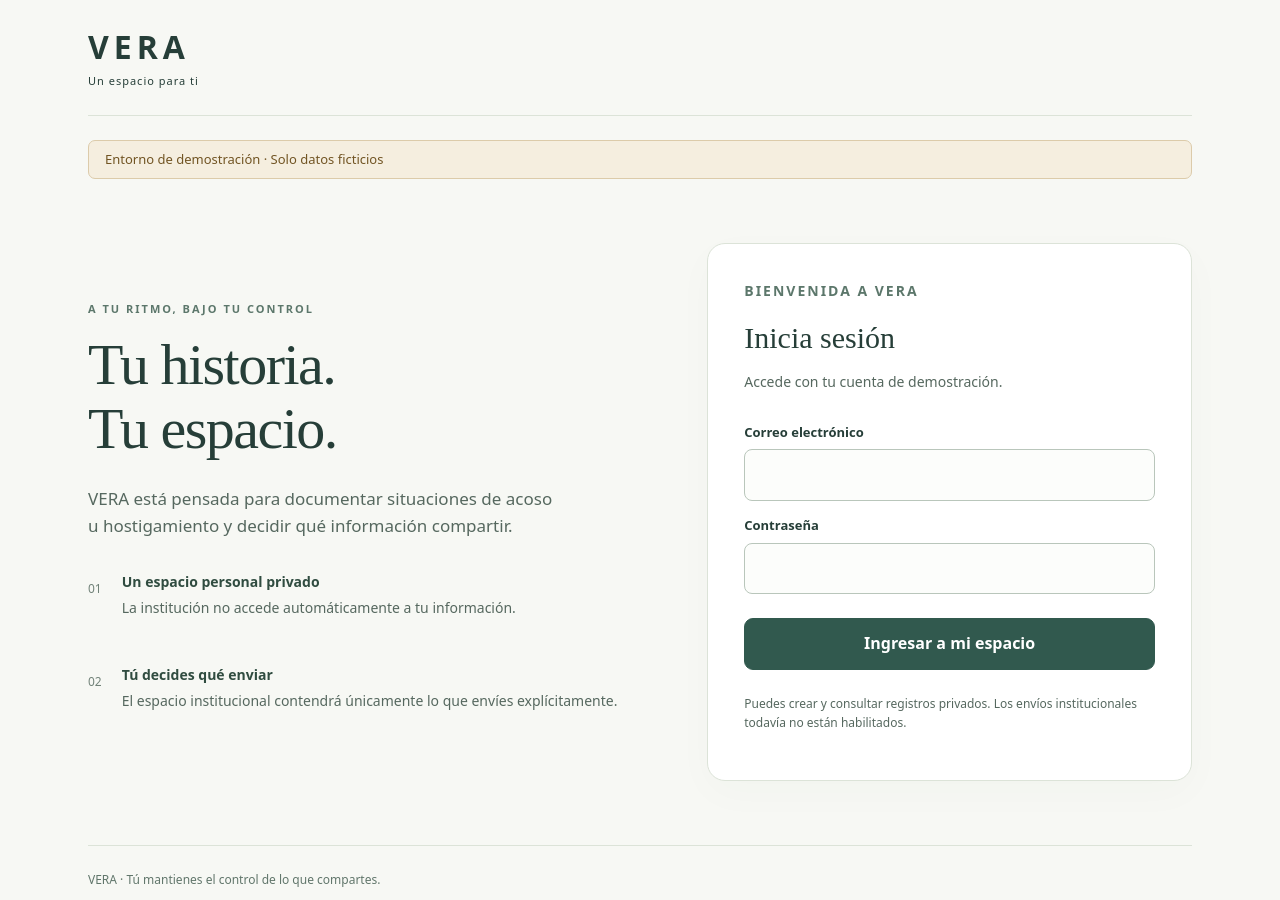
Scenario: inicia sesión, consulta el espacio autorizado y cierra la sesión
Type "ana@example.test" into the field labelled "Correo electrónico" at [950, 475], box [744,449,1155,501]
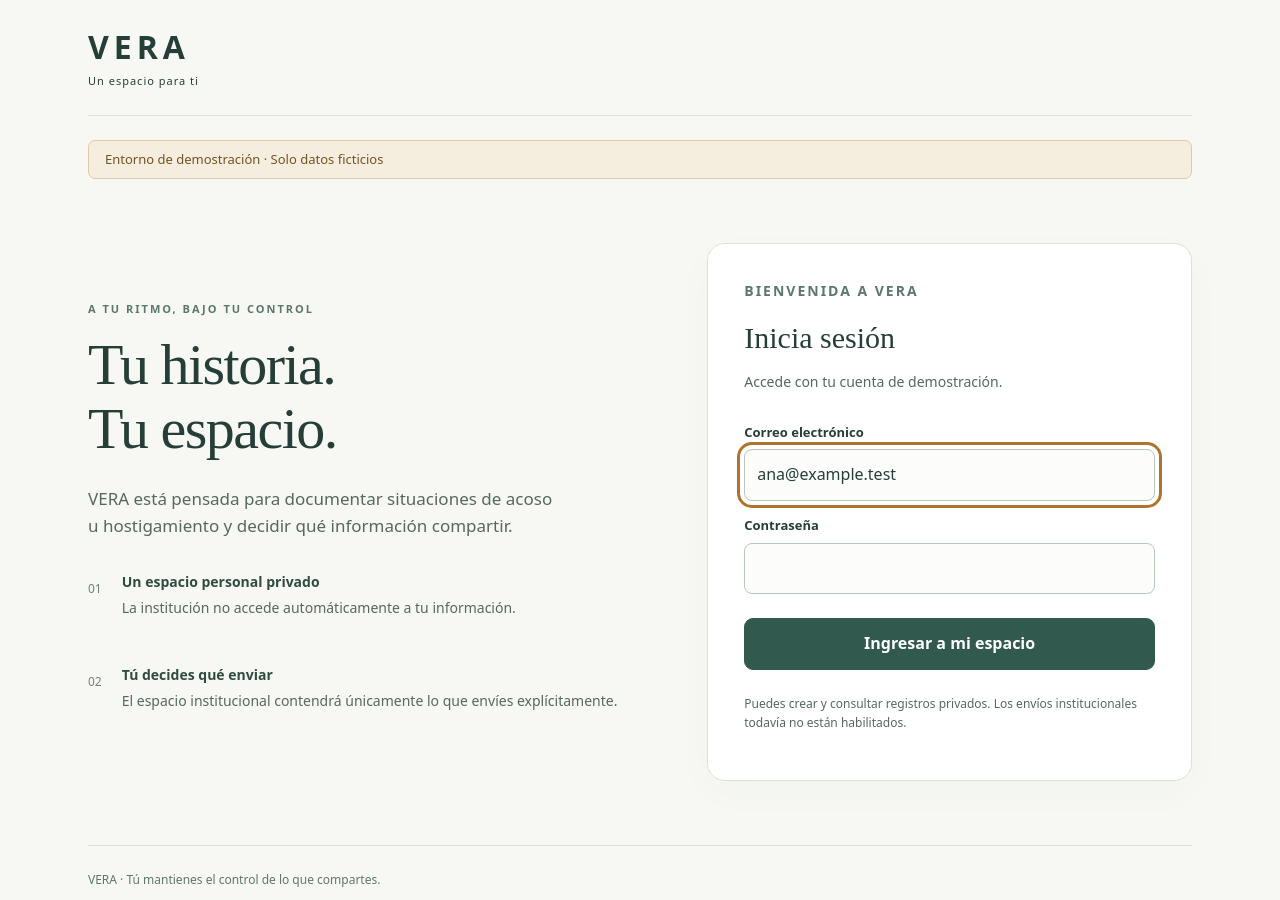
Type "ficticia" into the password field labelled "Contraseña" at [950, 569], box [744,543,1155,594]
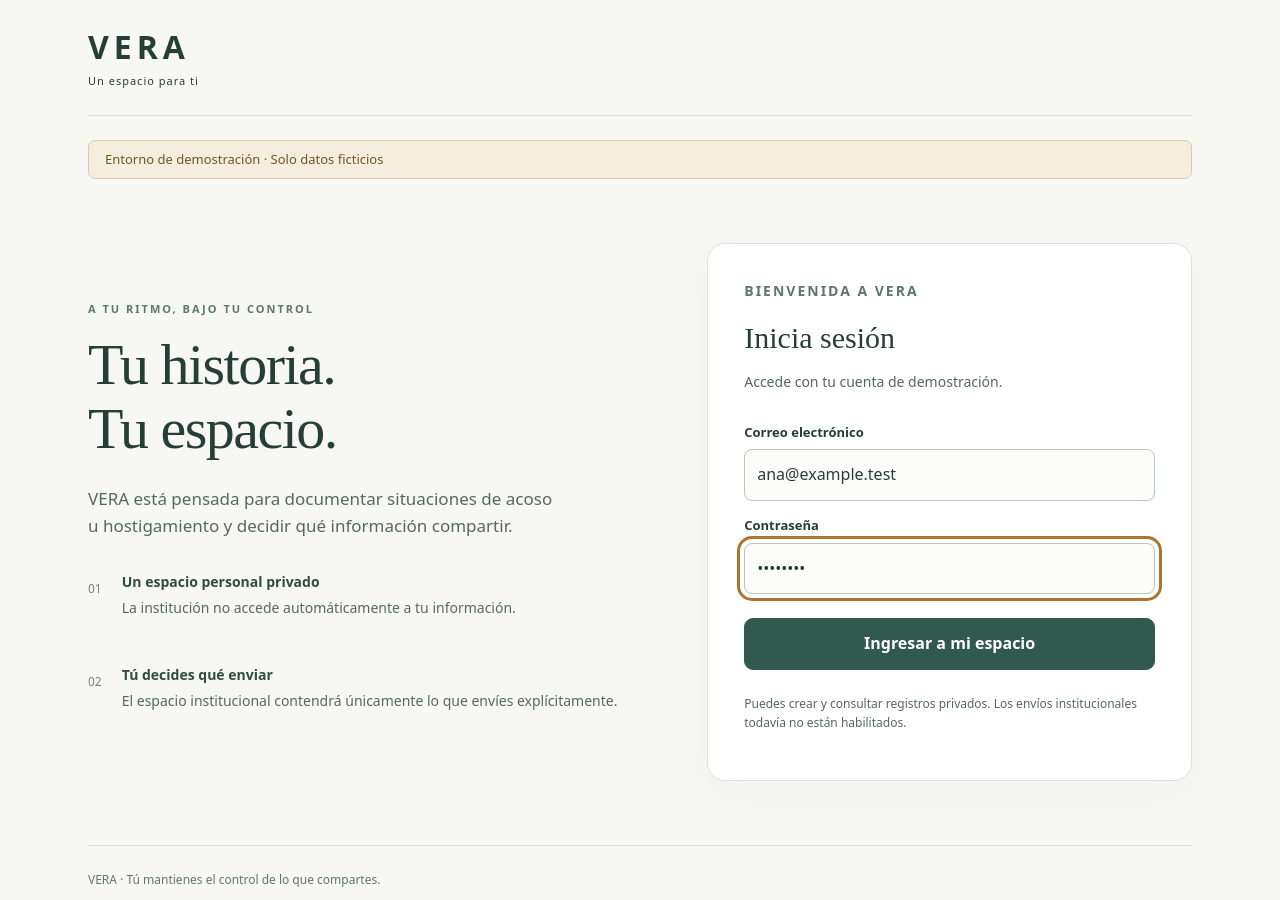
Click the button "Ingresar a mi espacio" at [950, 644], box [744,618,1155,670]
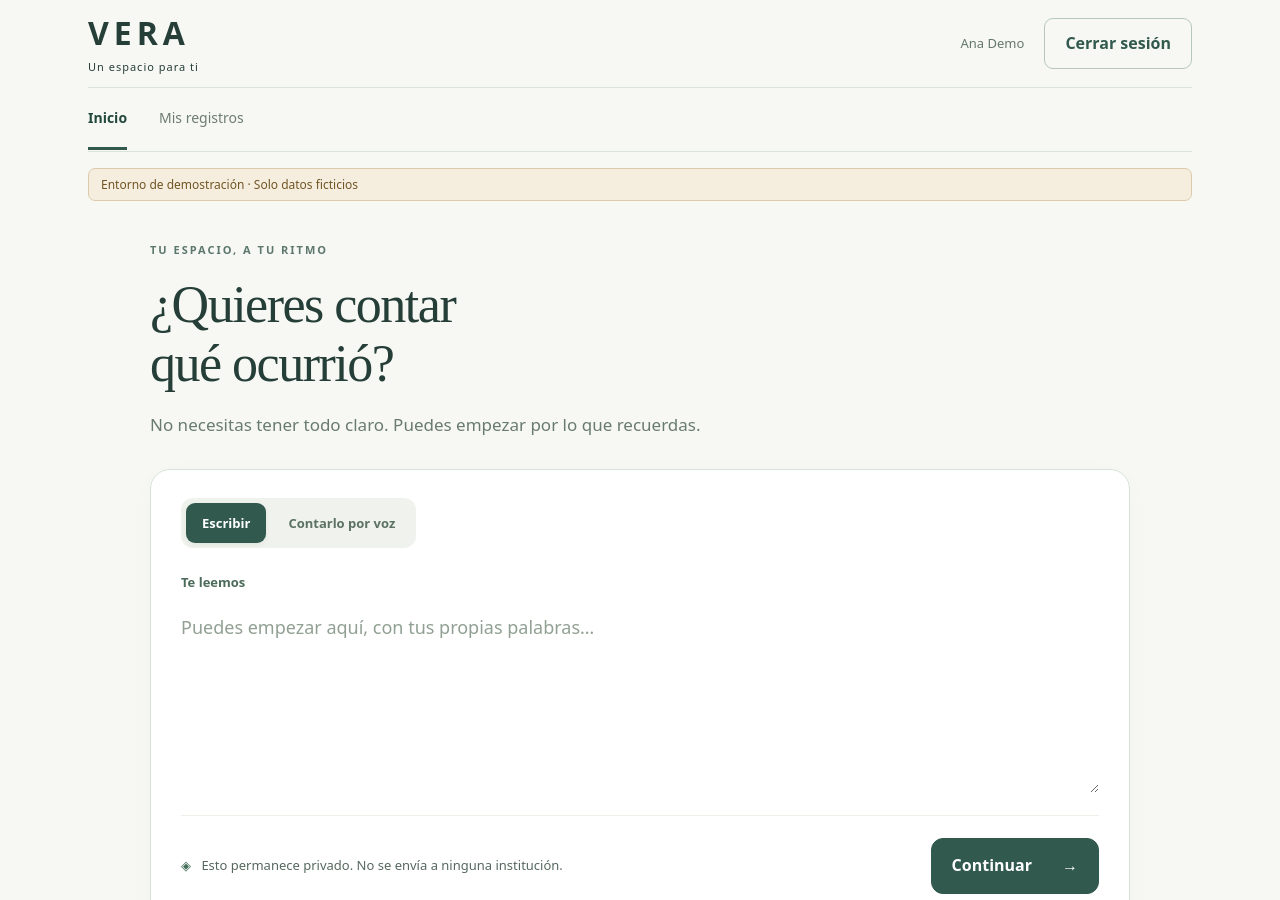
Expected: the heading "¿Quieres contar qué ocurrió?" is shown, [150,276,455,392]
Click the button "Cerrar sesión" at [1118, 44], box [1044,18,1192,69]
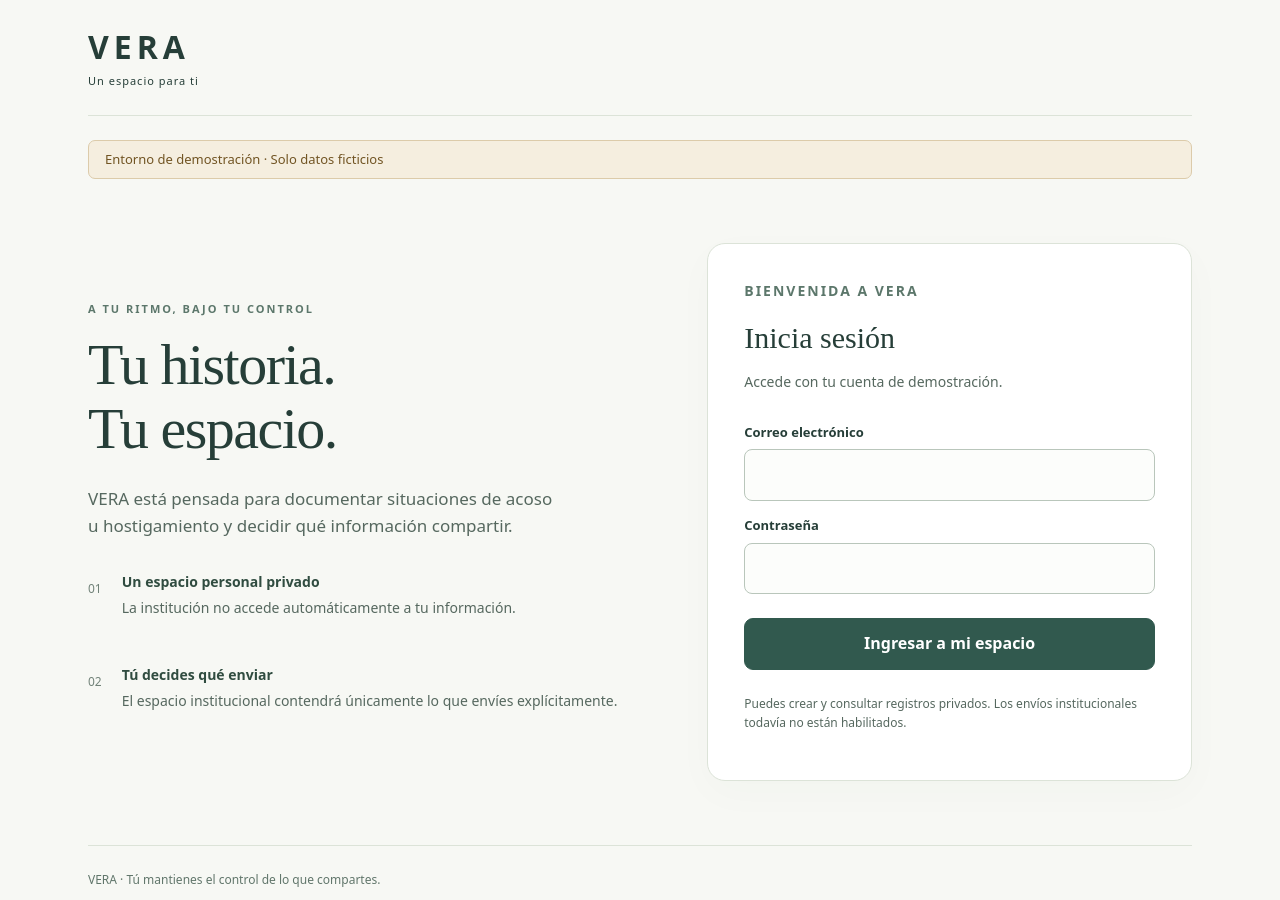
Expected: the password field labelled "Contraseña" is empty, [744,543,1155,594]
Expected: the heading "¿Quieres contar qué ocurrió?" is gone
